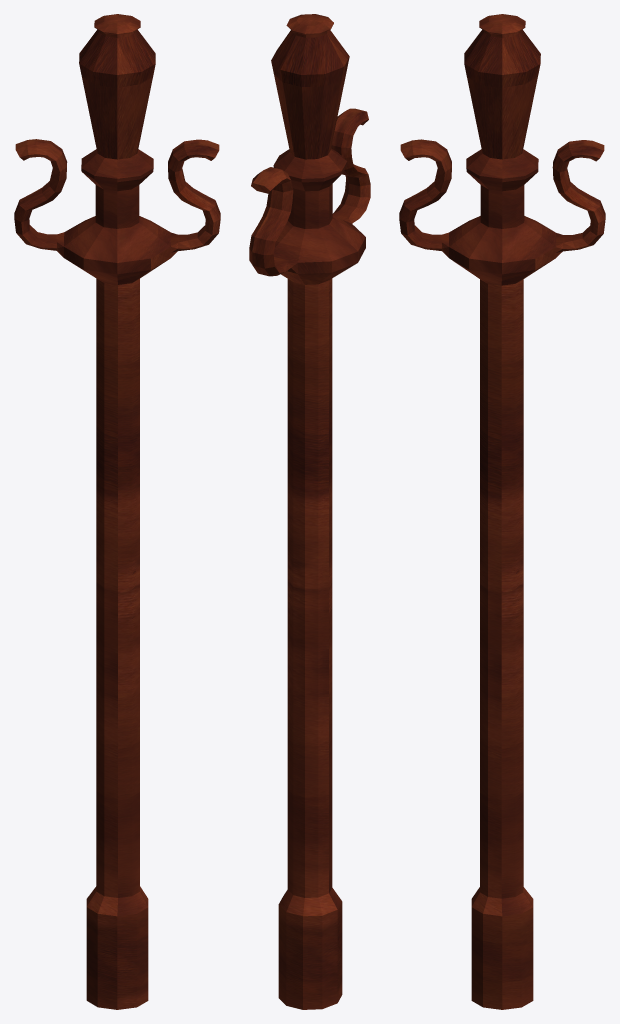
The model's file is lantaarn paal.fbx.
3 views of the same model, side by side, from view 1: azimuth 90°, elevation 25°; view 2: azimuth 150°, elevation 25°; view 3: azimuth 270°, elevation 25° (orthographic).
Parts seen in each view (by area): view 1: lantarn_paal:pCylinder3; view 2: lantarn_paal:pCylinder3; view 3: lantarn_paal:pCylinder3.
Boxes of the visible parts, x1,y1,x2,y2 form: lantarn_paal:pCylinder3: [14, 14, 220, 1009]; lantarn_paal:pCylinder3: [249, 14, 370, 1009]; lantarn_paal:pCylinder3: [399, 14, 605, 1009].
Size of the model in its own units: 0.7698 by 7.51 by 1.44.
1 material, 1 textured.
